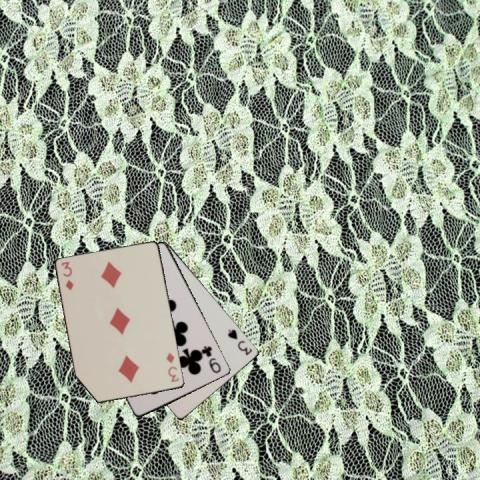3d: (163, 350, 181, 383), (59, 259, 74, 292)
3s: (225, 326, 254, 357)
9c: (200, 342, 223, 374)
